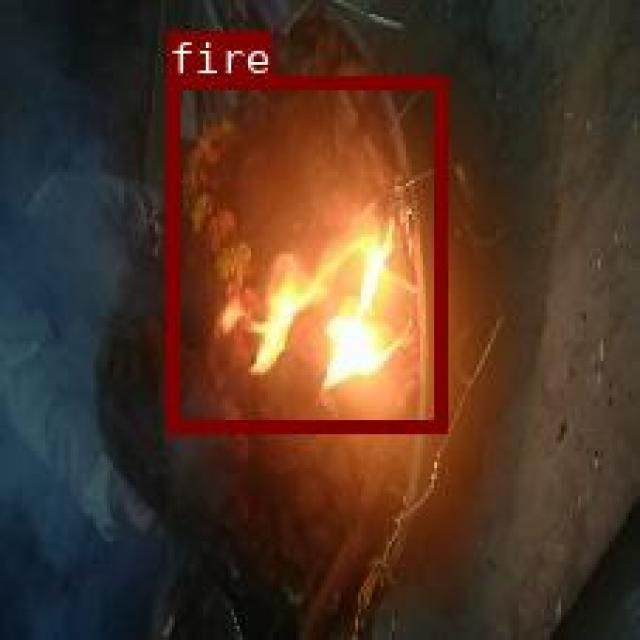fire: (166, 75, 443, 430)
